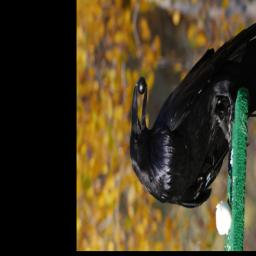Crow: (130, 21, 256, 211)
